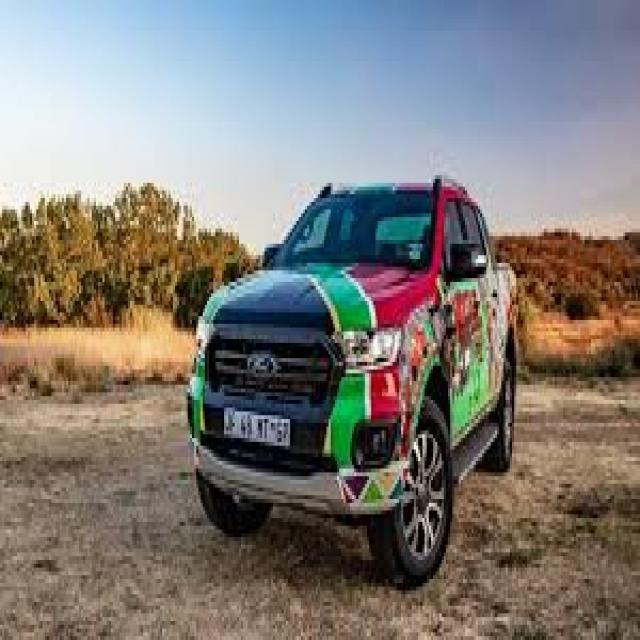Pickup Trucks: (190, 179, 520, 591)
